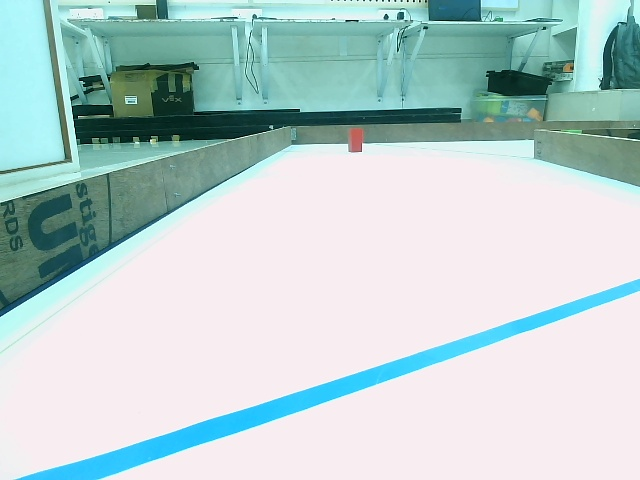red: (348, 129, 363, 152)
